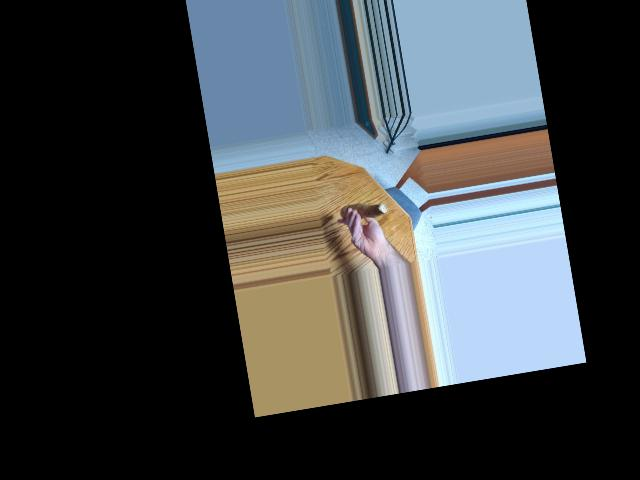sweet_potato: (343, 197, 385, 225)
